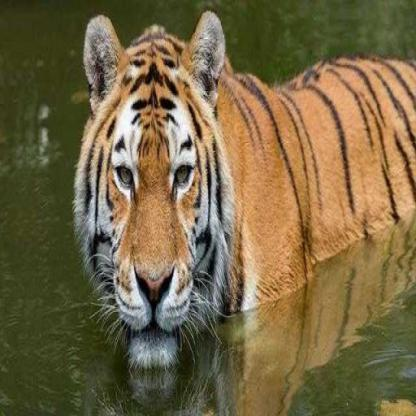Tiger: (29, 0, 416, 362)
